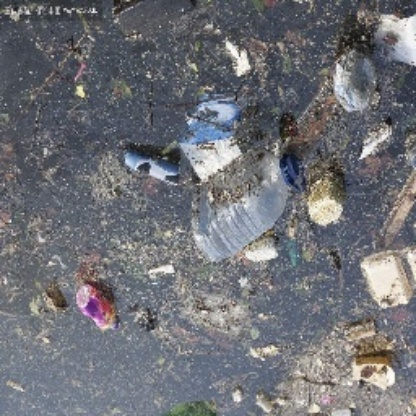bottle: (188, 153, 303, 267), (75, 283, 125, 335)
